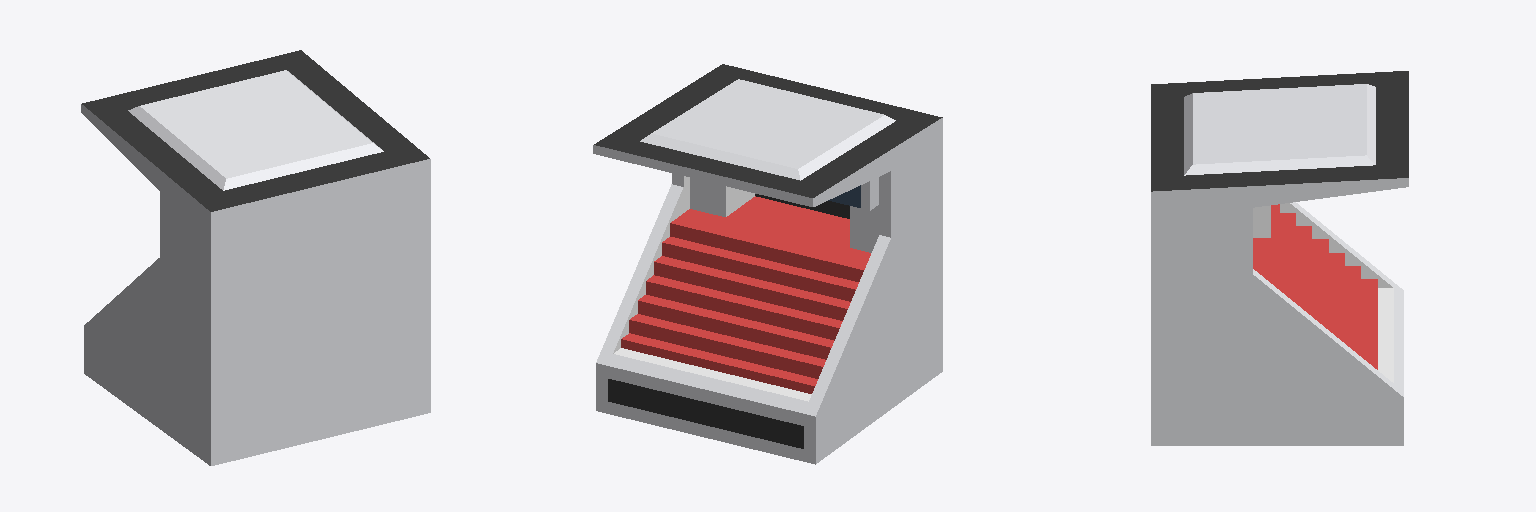
File: grandStandCovered.obj
The picture shows the model from 3 angles: view 1: azimuth 30°, elevation 25°; view 2: azimuth 150°, elevation 25°; view 3: azimuth 270°, elevation 25°; orthographic projection.
Visible parts, largest first — view 1: grandStandCovered; view 2: grandStandCovered; view 3: grandStandCovered.
Boxes of the visible parts, box(x1,y1,x2,y2) form: grandStandCovered: box(81, 50, 430, 465); grandStandCovered: box(593, 64, 942, 464); grandStandCovered: box(1151, 71, 1408, 445).
Size of the model in its own units: 1 by 1.19 by 1.02.